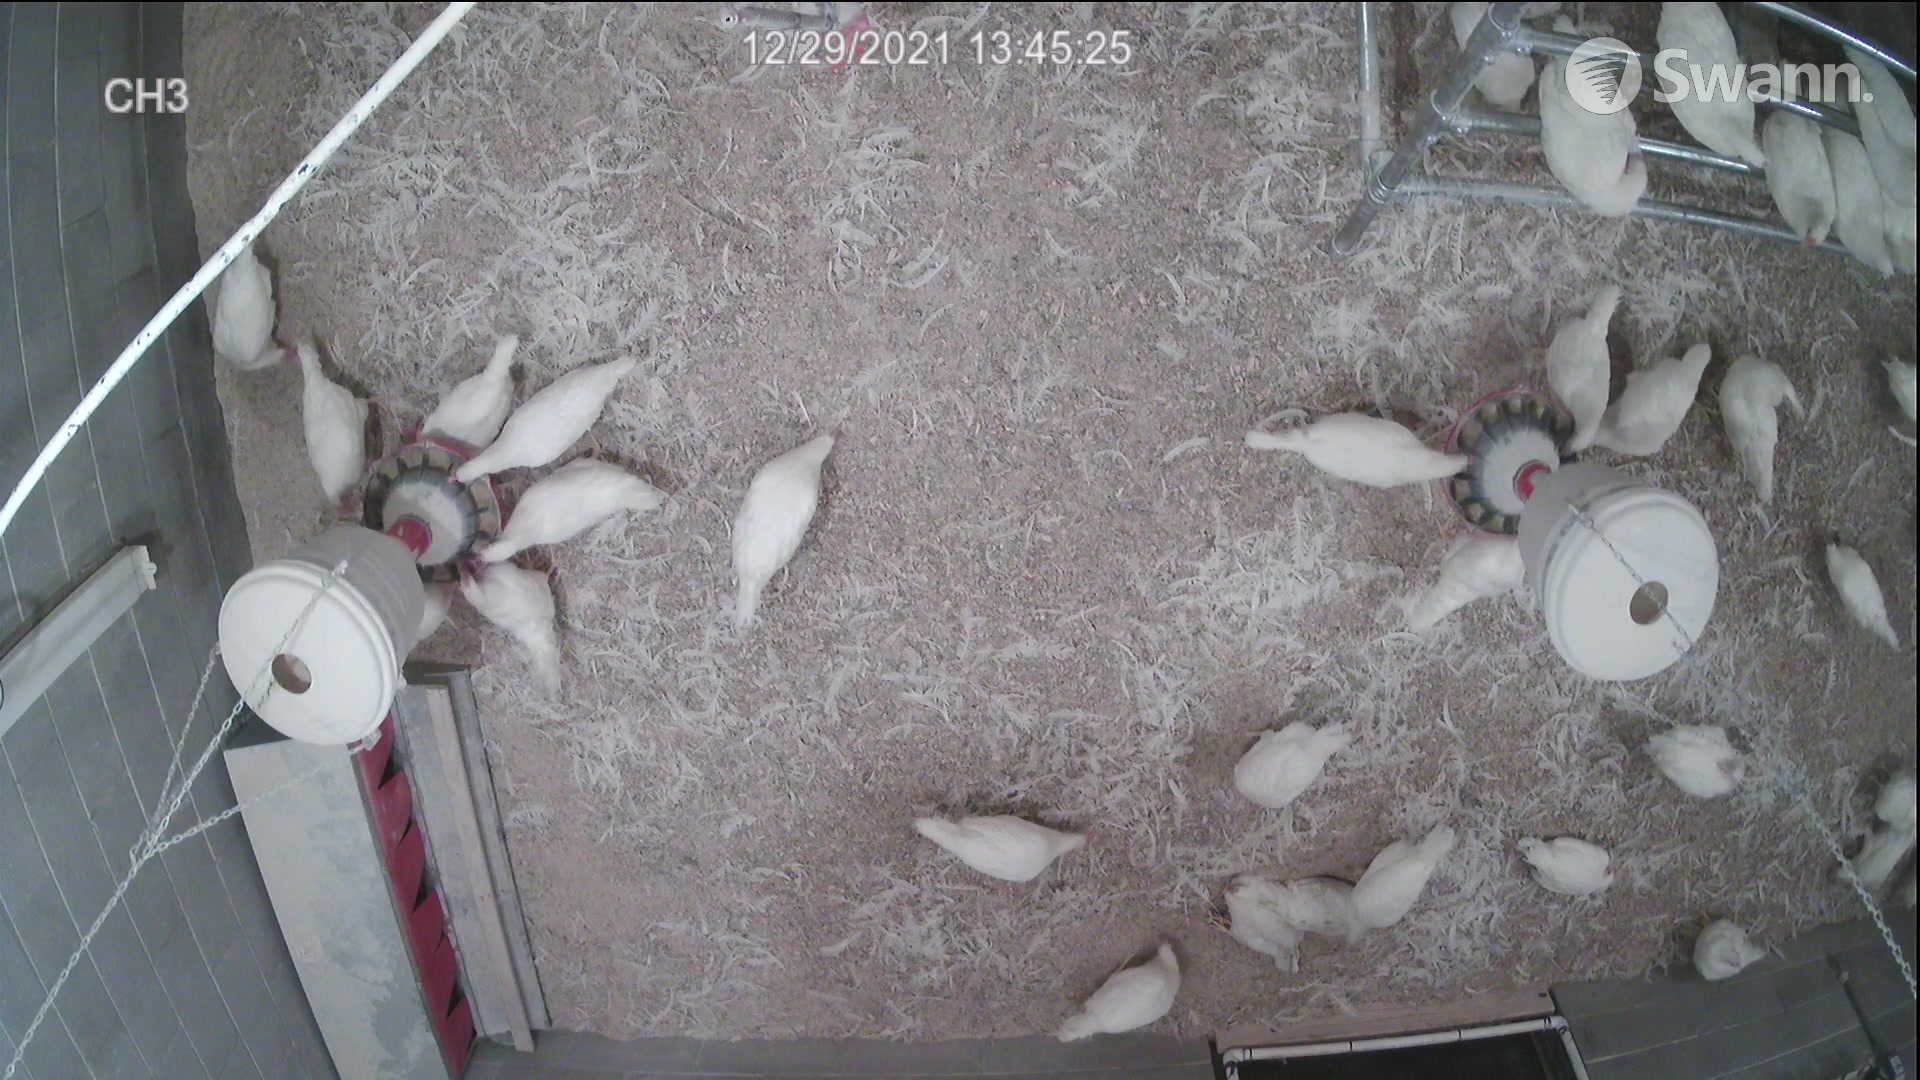Dust Bathing: (1287, 873, 1357, 957)
Feeding: (1233, 405, 1476, 495), (459, 363, 625, 487), (495, 462, 684, 559), (448, 546, 556, 665), (1549, 280, 1622, 448)
Foraging: (717, 418, 847, 622), (909, 795, 1095, 886), (1072, 938, 1182, 1051), (1811, 530, 1902, 646), (1232, 713, 1352, 800)
Perching: (1531, 26, 1655, 243), (1655, 15, 1756, 175), (1836, 22, 1917, 214), (1755, 102, 1829, 240), (1817, 141, 1888, 269)
Preening: (1716, 345, 1804, 501)
